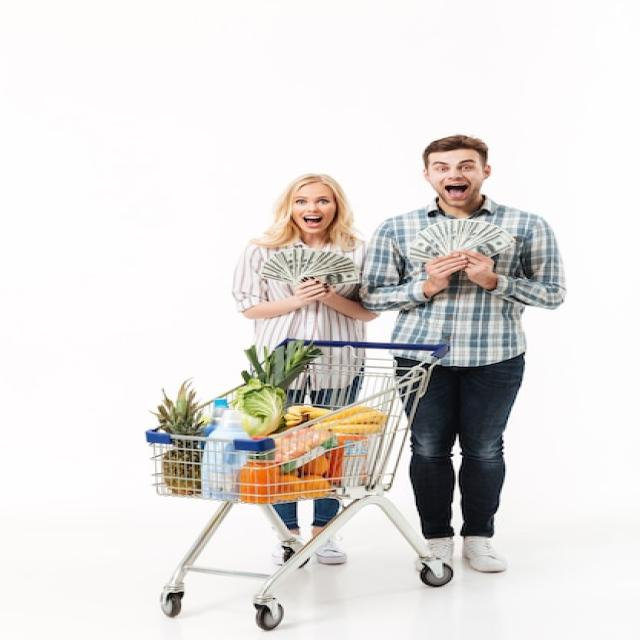Person: (359, 133, 565, 574), (230, 173, 380, 565)
